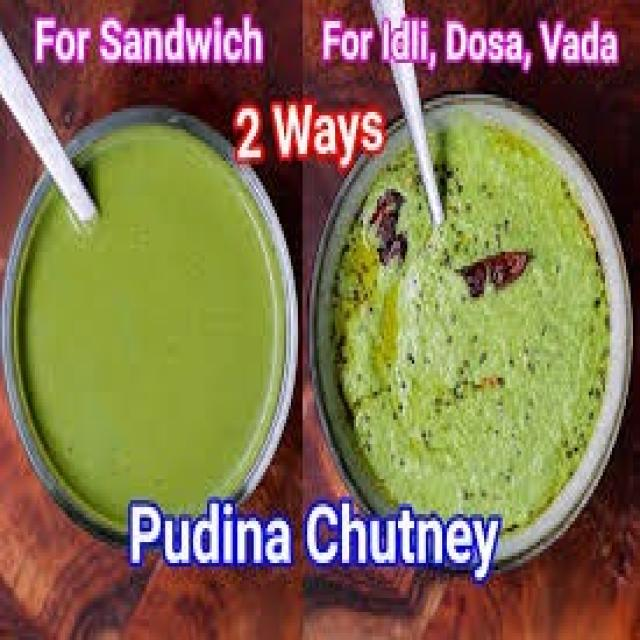puthina chutney: (321, 131, 603, 505)
